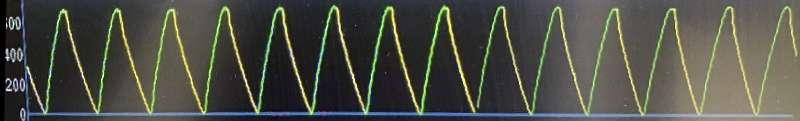normal_volume: (38, 0, 773, 120)
